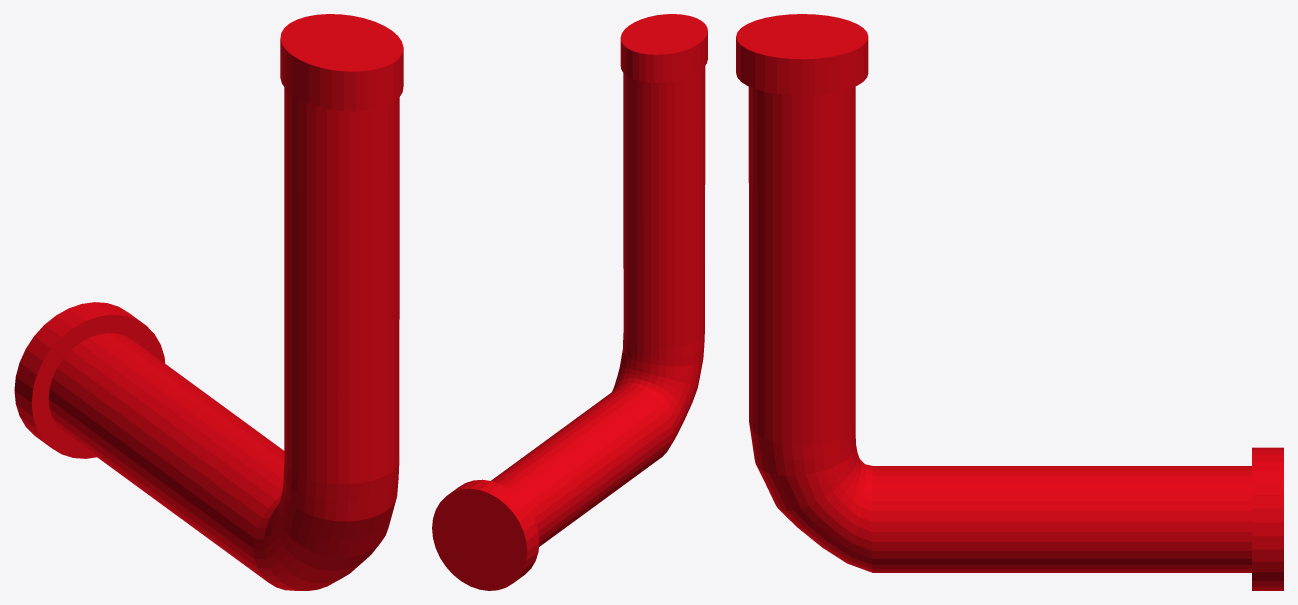
The model's file is Escape Room bend Pipes.fbx.
3 renders of one model, left to right at view 1: azimuth 30°, elevation 25°; view 2: azimuth 150°, elevation 25°; view 3: azimuth 270°, elevation 25°, orthographic. The views are drawn at different scales.
Visible parts, largest first — view 1: Cylinder; view 2: Cylinder; view 3: Cylinder.
Boxes of the visible parts, left/top/right/bottom form: Cylinder: left=14, top=14, right=403, bottom=590; Cylinder: left=432, top=14, right=707, bottom=590; Cylinder: left=736, top=14, right=1283, bottom=590.
Bounding box in the file's own units: 268 × 1129 × 1023.
